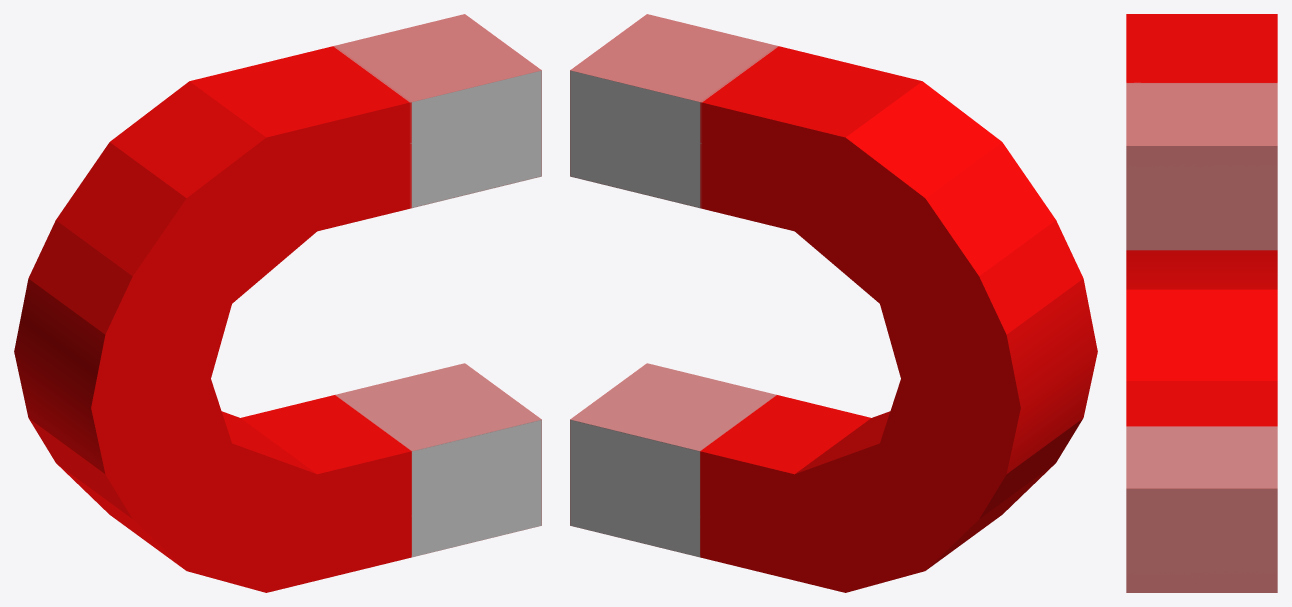
The model's file is Magnet.fbx.
The picture shows the model from 3 angles, left to right: view 1: azimuth 30°, elevation 25°; view 2: azimuth 150°, elevation 25°; view 3: azimuth 270°, elevation 25°; orthographic projection.
Visible parts, largest first — view 1: pCube3; view 2: pCube3; view 3: pCube3.
Part boxes in pixels (<box>): pCube3: <box>14,14,541,592</box>; pCube3: <box>570,14,1097,592</box>; pCube3: <box>1126,14,1277,592</box>.
Bounding box in the file's own units: 1.57 × 1.52 × 0.4647.
